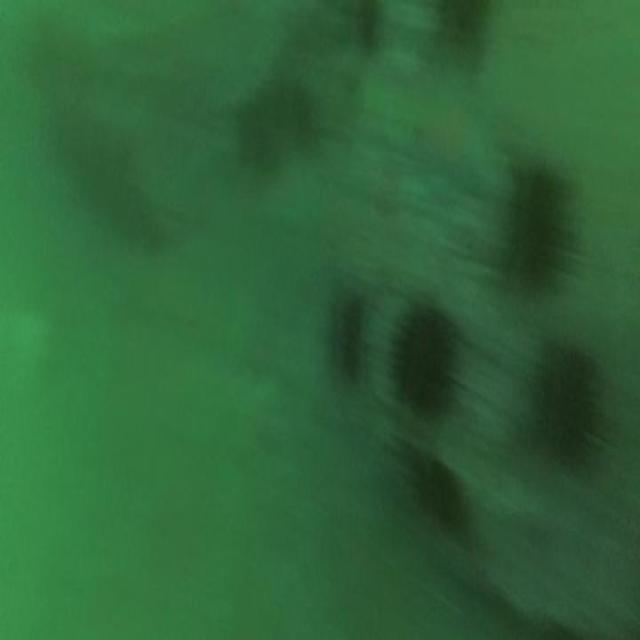echinus: (494, 149, 572, 300), (525, 334, 599, 488), (388, 299, 463, 420), (412, 449, 468, 534)
